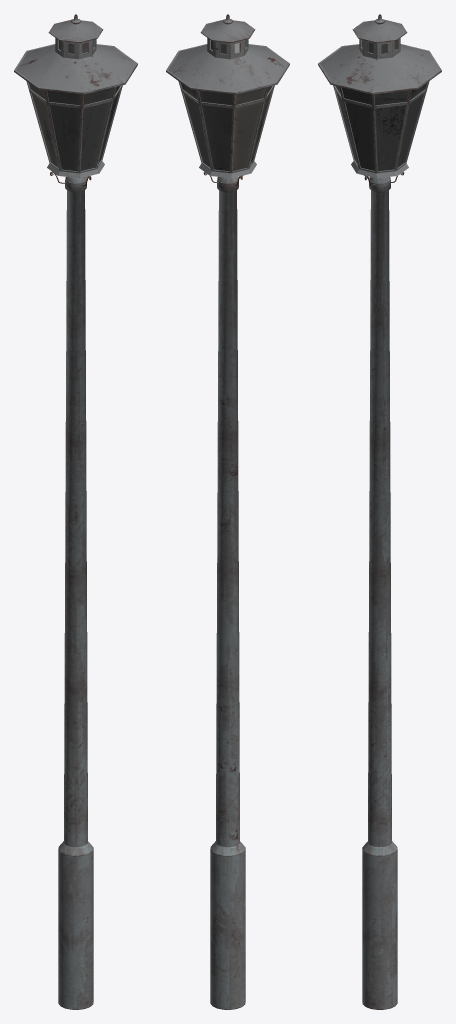
Rendered from Lampu Taman .fbx.
3 renders of one model, left to right at view 1: azimuth 30°, elevation 25°; view 2: azimuth 210°, elevation 25°; view 3: azimuth 330°, elevation 25°, orthographic.
Parts seen in each view (by area): view 1: Pole, Base Lampu; view 2: Pole, Base Lampu; view 3: Pole, Base Lampu.
Part boxes in pixels (left/top/right/bottom): Pole: left=58, top=177, right=93, bottom=1009; Base Lampu: left=14, top=14, right=137, bottom=178; Pole: left=210, top=177, right=245, bottom=1009; Base Lampu: left=166, top=14, right=289, bottom=178; Pole: left=362, top=177, right=397, bottom=1009; Base Lampu: left=318, top=14, right=441, bottom=178.
Bounding box in the file's own units: 0.2802 × 0.2802 × 2.64.
Materials: 3 (3 with a texture image).
